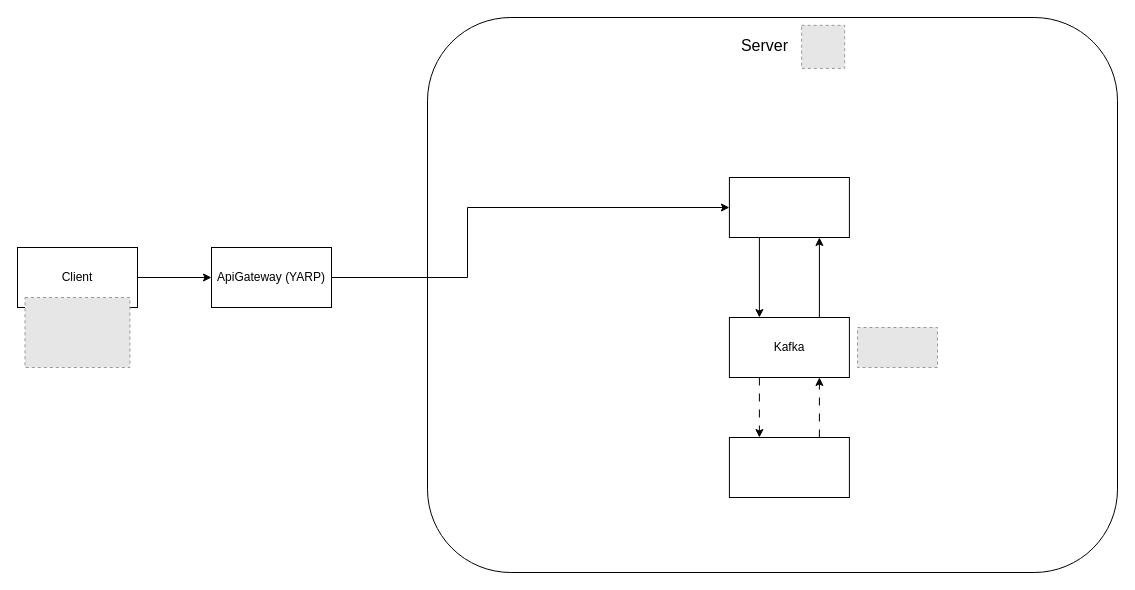
Image size: 1135x590. Some labels were removed from this diagram. Grey dashed boxes stand in for pictures. The shapes that lost their labels are listed below. From the top down, each one's centre as x and y in pixels, then its label:
At (x=788, y=207): "AuthService".
At (x=788, y=467): "ProfileService".
